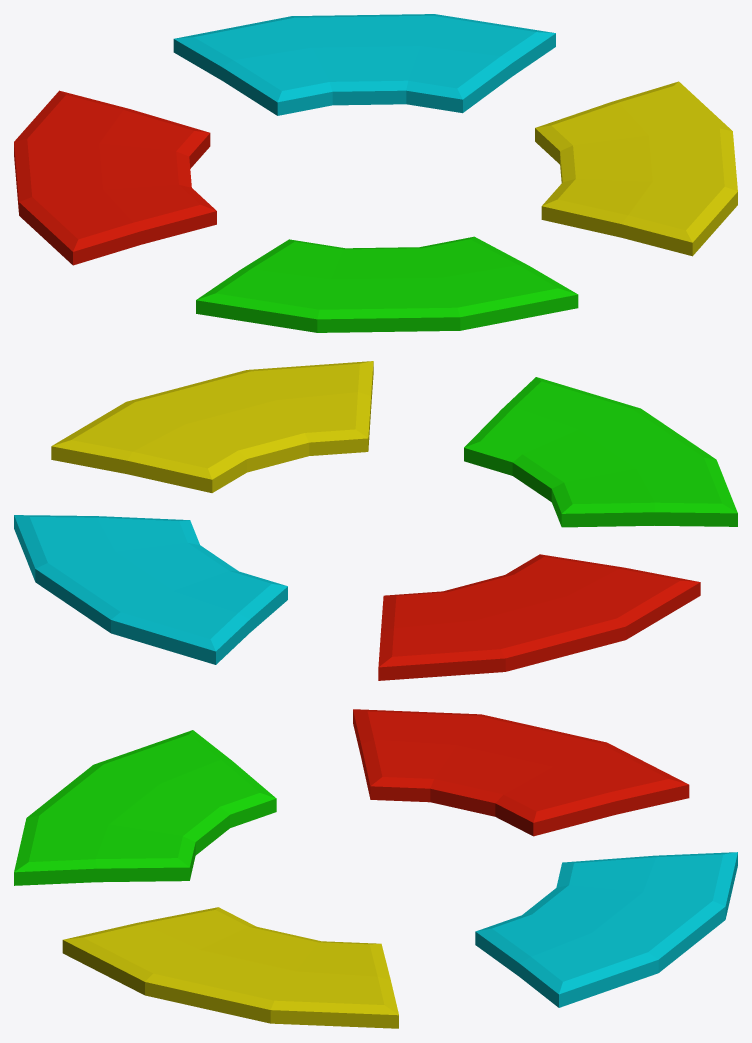
File: Botons_Simon.fbx
The picture shows the model from 3 angles, top to bottom: view 1: azimuth 30°, elevation 25°; view 2: azimuth 150°, elevation 25°; view 3: azimuth 270°, elevation 25°; orthographic projection.
Parts seen in each view (by area): view 1: BotoSimon_Blau, BotoSimon_Verd, BotoSimon_Groc, BotoSimon_Vermell; view 2: BotoSimon_Groc, BotoSimon_Verd, BotoSimon_Vermell, BotoSimon_Blau; view 3: BotoSimon_Vermell, BotoSimon_Groc, BotoSimon_Verd, BotoSimon_Blau.
Part boxes in pixels (x1,y1,x2,y2): BotoSimon_Blau: [173, 14, 555, 115]; BotoSimon_Verd: [196, 236, 578, 332]; BotoSimon_Groc: [535, 81, 737, 256]; BotoSimon_Vermell: [14, 90, 216, 265]; BotoSimon_Groc: [51, 361, 373, 492]; BotoSimon_Verd: [464, 377, 737, 527]; BotoSimon_Vermell: [378, 554, 700, 680]; BotoSimon_Blau: [14, 515, 287, 664]; BotoSimon_Vermell: [353, 709, 689, 836]; BotoSimon_Groc: [62, 907, 398, 1028]; BotoSimon_Verd: [14, 730, 276, 885]; BotoSimon_Blau: [475, 852, 737, 1007].
Size of the model in its own units: 15.73 by 0.4889 by 15.73.
